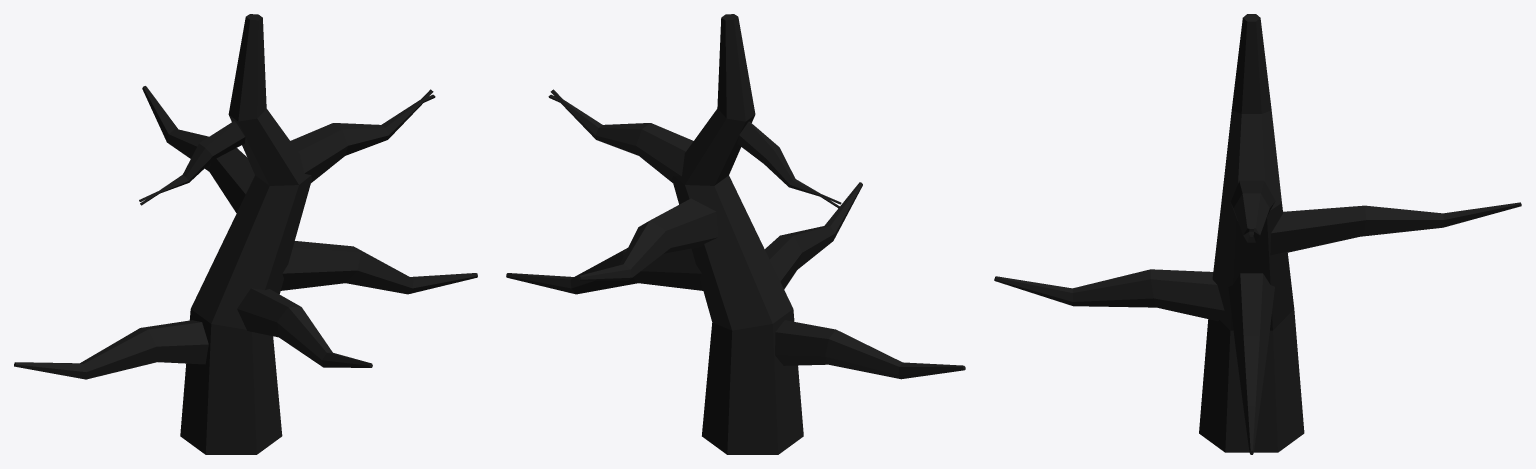
File: _CenarioPrincipaisAssets_ArvoreMorta2.fbx
3 renders of one model, left to right at view 1: azimuth 30°, elevation 25°; view 2: azimuth 150°, elevation 25°; view 3: azimuth 270°, elevation 25°, orthographic. The views are drawn at different scales.
Parts seen in each view (by area): view 1: Circle.001; view 2: Circle.001; view 3: Circle.001.
Part boxes in pixels (x1,y1,x2,y2): Circle.001: (14,14,477,454); Circle.001: (506,14,965,454); Circle.001: (994,14,1521,454).
Size of the model in its own units: 968 by 832 by 930.
